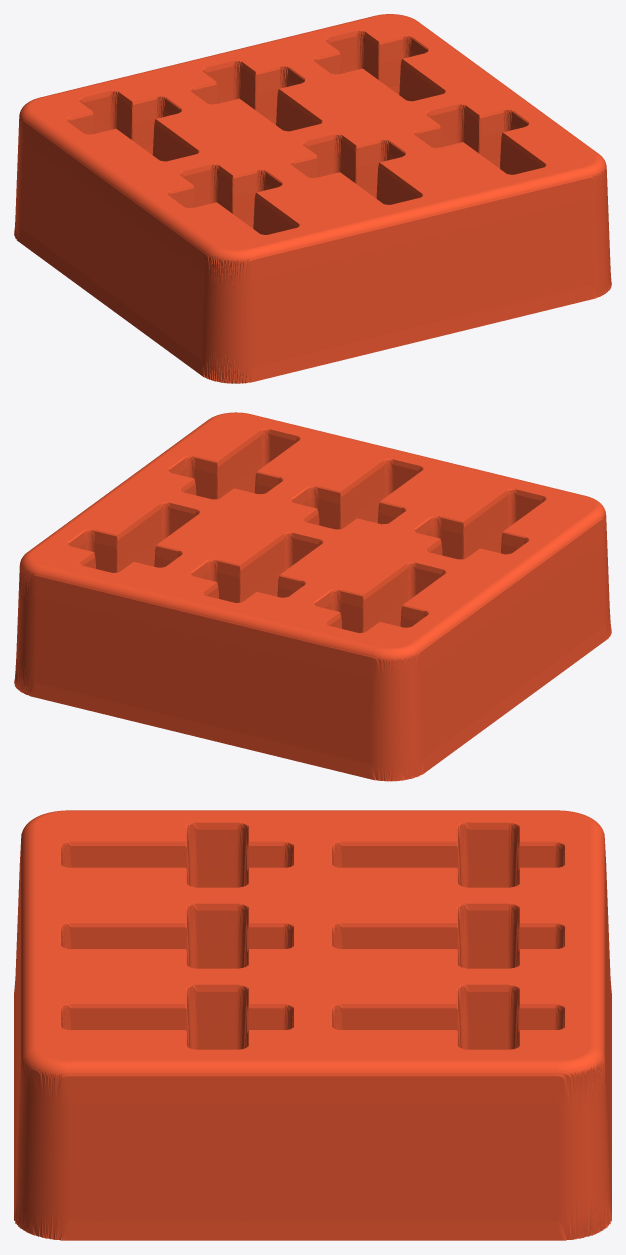
File: mold.glb
3 views of the same model, one above another, from view 1: azimuth 30°, elevation 25°; view 2: azimuth 150°, elevation 25°; view 3: azimuth 270°, elevation 25° (orthographic). The views are drawn at different scales.
Parts seen in each view (by area): view 1: geometry_0; view 2: geometry_0; view 3: geometry_0.
Boxes of the visible parts, x1,y1,x2,y2 form: geometry_0: [14, 14, 611, 383]; geometry_0: [14, 412, 611, 781]; geometry_0: [14, 810, 611, 1240].
Size of the model in its own units: 0.1052 by 0.0314 by 0.0996.
